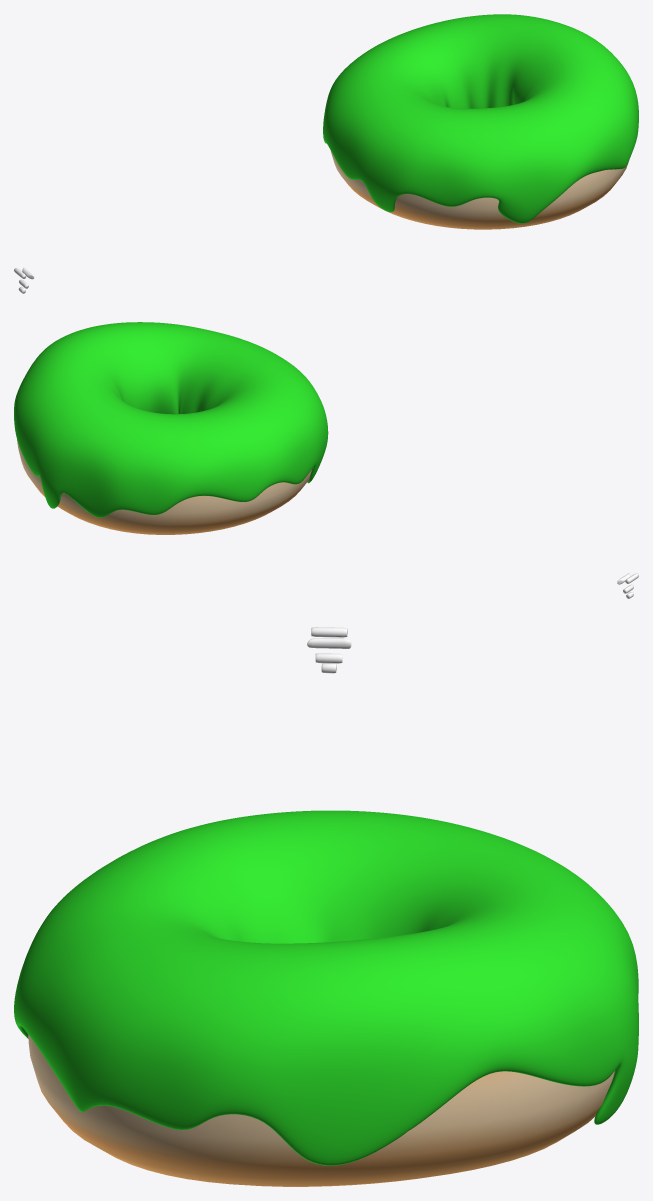
File: DONUT_v2.glb
The picture shows the model from 3 angles, top to bottom: view 1: azimuth 30°, elevation 25°; view 2: azimuth 150°, elevation 25°; view 3: azimuth 270°, elevation 25°; orthographic projection. The views are drawn at different scales.
Visible parts, largest first — view 1: Icing.001, Donut.001; view 2: Icing.001, Donut.001; view 3: Icing.001, Donut.001.
Boxes of the visible parts, x1,y1,x2,y2 form: Icing.001: (323, 14, 638, 223); Donut.001: (331, 151, 628, 229); Icing.001: (14, 322, 328, 517); Donut.001: (17, 440, 311, 534); Icing.001: (14, 810, 638, 1165); Donut.001: (28, 1034, 614, 1186).
Bounding box in the file's own units: 0.2678 × 0.0537 × 0.1239.
3 materials, 1 textured.
